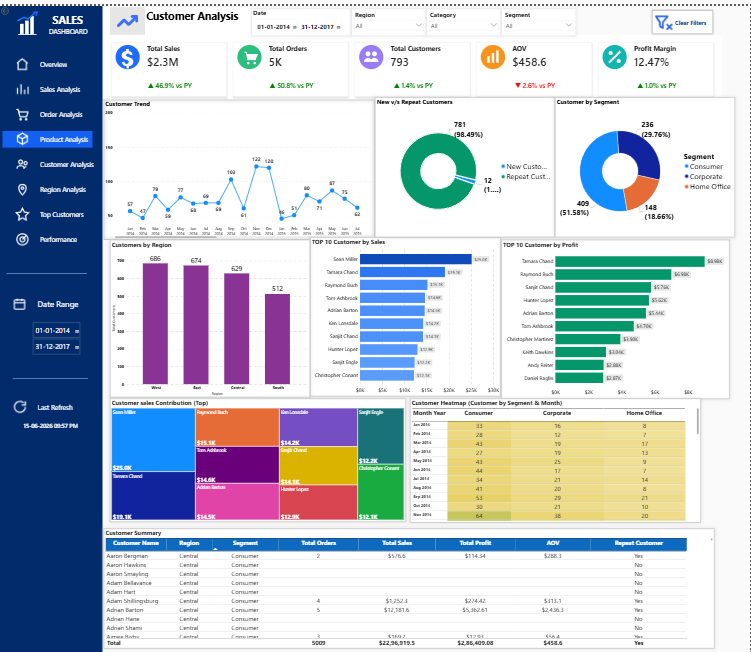

This screenshot's page, from the dashboard's own definition file:
{"tool":"powerbi","page":{"name":"Customer Analysis","canvas":[3000,2600],"ordinal":3},"visuals":[{"type":"cardVisual","fields":{"Data":["Factsales.Total Sales","Factsales.Total Orders","Factsales.Total Customers","Factsales.AOV","Factsales.Profit Margin"]},"box":[416.7,116.7,2473.3,283.3],"z":0},{"type":"lineChart","title":"Customer Trend","fields":{"Category":["Dimdate.Month Year"],"Y":["Factsales.Total Customers"]},"box":[416.7,373.3,1083.3,560],"z":1000},{"type":"clusteredBarChart","title":"TOP 10 Customer by Sales","fields":{"Y":["Factsales.Total Sales"],"Category":["Dimcustomer.Customer Name"]},"box":[1240,926.7,763.3,636.7],"z":2000},{"type":"shape","box":[0,0,410,2600],"z":3000},{"type":"textbox","box":[190,20,197.5,130],"z":4000},{"type":"actionButton","box":[10,200,360,65],"z":5000},{"type":"actionButton","box":[10,300,360,65],"z":6000},{"type":"actionButton","box":[10,500,360,66.7],"z":7000},{"type":"slicer","title":"Date","fields":{"Values":["Dimdate.Date"]},"box":[1002.5,7.5,400,110],"z":8000},{"type":"actionButton","box":[10,600,376.7,66.7],"z":9000},{"type":"actionButton","box":[10,700,360,66.7],"z":10000},{"type":"actionButton","box":[10,800,360,66.7],"z":11000},{"type":"actionButton","box":[10,900,360,66.7],"z":12000},{"type":"image","box":[2.5,7.5,225,130],"z":13000},{"type":"shape","box":[26.7,990,323.3,160],"z":14000},{"type":"actionButton","box":[0,1160,356.7,63.3],"z":15000},{"type":"slicer","fields":{"Values":["Dimdate.Date"]},"box":[120,1253.3,230,150],"z":16000},{"type":"shape","box":[50,1410,303.3,160],"z":17000},{"type":"cardVisual","fields":{"Data":["Dimdate.Last Refresh"]},"box":[66.7,1636.7,323.3,83.3],"z":18000},{"type":"actionButton","box":[0,1570,440,66.7],"z":19000},{"type":"slicer","fields":{"Values":["Factsales.Region"]},"box":[1402.5,7.5,300,110],"z":20000},{"type":"slicer","fields":{"Values":["Factsales.Category"]},"box":[1702.5,7.5,300,110],"z":21000},{"type":"slicer","fields":{"Values":["Factsales.Segment"]},"box":[2002.5,7.5,300,110],"z":22000},{"type":"actionButton","box":[2600,10,260,110],"z":23000},{"type":"textbox","box":[416.7,6.7,586.7,130],"z":24000},{"type":"actionButton","box":[0,0,100,40],"z":25000},{"type":"actionButton","box":[10,400,360,66.7],"z":26000},{"type":"image","box":[440,6.7,140,110],"z":27000},{"type":"donutChart","title":"New v/s Repeat Customers","fields":{"Y":["Factsales.New Customers","Factsales.Repeat Customers"]},"box":[1500,366.7,720,560],"z":28000},{"type":"clusteredBarChart","title":"TOP 10 Customer by Profit","fields":{"Y":["Factsales.Total Profit"],"Category":["Factsales.Customer Name"]},"box":[2003.3,933.3,913.3,636.7],"z":29000},{"type":"tableEx","title":"Customer Summary","fields":{"Values":["Dimcustomer.Customer Name","Factsales.Region","Factsales.Segment","Factsales.Total Orders","Factsales.Total Sales","Factsales.Total Profit","Factsales.AOV","Factsales.Repeat Customer Status"]},"box":[416.7,2090,2443.3,480],"z":30000},{"type":"donutChart","title":"Customer by Segment","fields":{"Y":["Factsales.Total Customers"],"Category":["Factsales.Segment"]},"box":[2220,366.7,720,560],"z":31000},{"type":"clusteredColumnChart","title":"Customers by Region","fields":{"Category":["Factsales.Region"],"Y":["Factsales.Total Customers"]},"box":[440,933.3,800,630],"z":32000},{"type":"treemap","title":"Customer sales Contribution (Top)","fields":{"Values":["Factsales.Total Sales"],"Group":["Dimcustomer.Customer Name"]},"box":[440,1570,1183.3,493.3],"z":33000},{"type":"pivotTable","title":"Customer Heatmap (Customer by Segment & Month)","fields":{"Rows":["Dimdate.Month Year"],"Columns":["Factsales.Segment"],"Values":["Factsales.Total Customers"]},"box":[1640,1570,1163.3,496.7],"z":34000}]}

Visuals, with their boxes on the page's 3000x2600 design canvas (x1, y1, x2, y2). These are canvas units, not pixel positions in the 751x652 screenshot, which may show the page scaled, cropped or inside an application window:
cardVisual - Factsales.Total Sales x Factsales.Total Orders: 417/117/2890/400
"Customer Trend" lineChart: 417/373/1500/933
"TOP 10 Customer by Sales" clusteredBarChart: 1240/927/2003/1563
shape: 0/0/410/2600
textbox: 190/20/388/150
actionButton: 10/200/370/265
actionButton: 10/300/370/365
actionButton: 10/500/370/567
"Date" slicer: 1002/8/1402/118
actionButton: 10/600/387/667
actionButton: 10/700/370/767
actionButton: 10/800/370/867
actionButton: 10/900/370/967
image: 2/8/228/138
shape: 27/990/350/1150
actionButton: 0/1160/357/1223
slicer - Dimdate.Date: 120/1253/350/1403
shape: 50/1410/353/1570
cardVisual - Dimdate.Last Refresh: 67/1637/390/1720
actionButton: 0/1570/440/1637
slicer - Factsales.Region: 1402/8/1702/118
slicer - Factsales.Category: 1702/8/2002/118
slicer - Factsales.Segment: 2002/8/2302/118
actionButton: 2600/10/2860/120
textbox: 417/7/1003/137
actionButton: 0/0/100/40
actionButton: 10/400/370/467
image: 440/7/580/117
"New v/s Repeat Customers" donutChart: 1500/367/2220/927
"TOP 10 Customer by Profit" clusteredBarChart: 2003/933/2917/1570
"Customer Summary" tableEx: 417/2090/2860/2570
"Customer by Segment" donutChart: 2220/367/2940/927
"Customers by Region" clusteredColumnChart: 440/933/1240/1563
"Customer sales Contribution (Top)" treemap: 440/1570/1623/2063
"Customer Heatmap (Customer by Segment & Month)" pivotTable: 1640/1570/2803/2067
